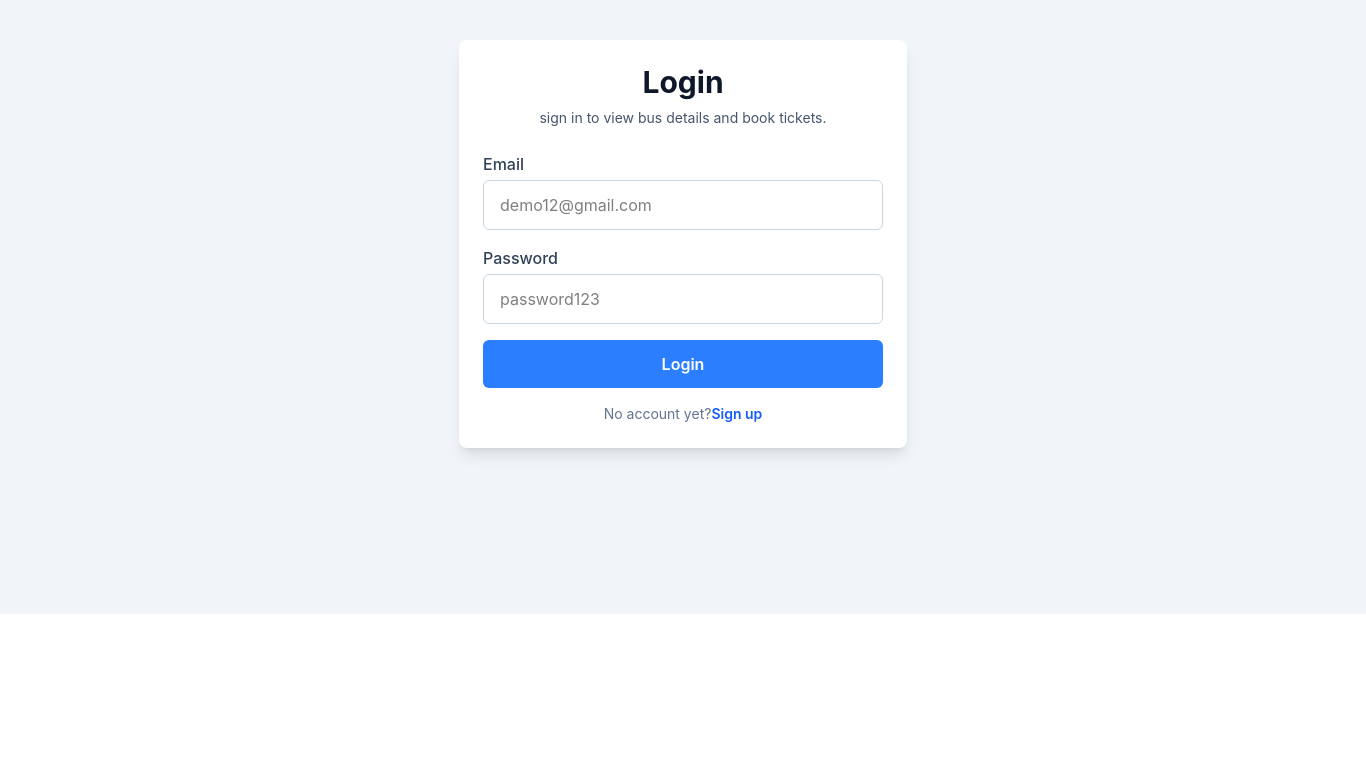
Test case: Login › shows an error for invalid credentials
The image size is (1366, 768).
Type "busTraveladmin@gmail.com" into the field labelled "Email" at (683, 205), box [483, 180, 883, 230]
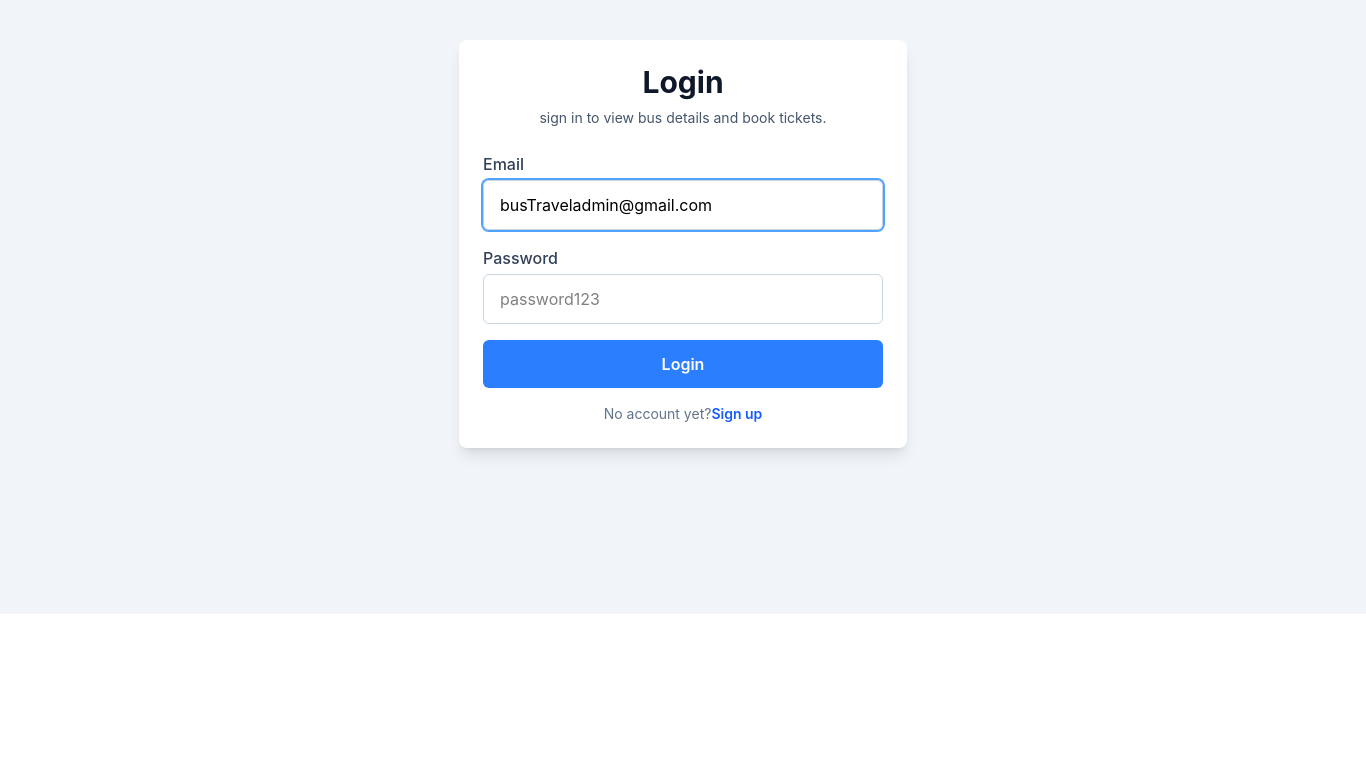
Type "wrong-password" into the password field labelled "Password" at (683, 299), box [483, 274, 883, 324]
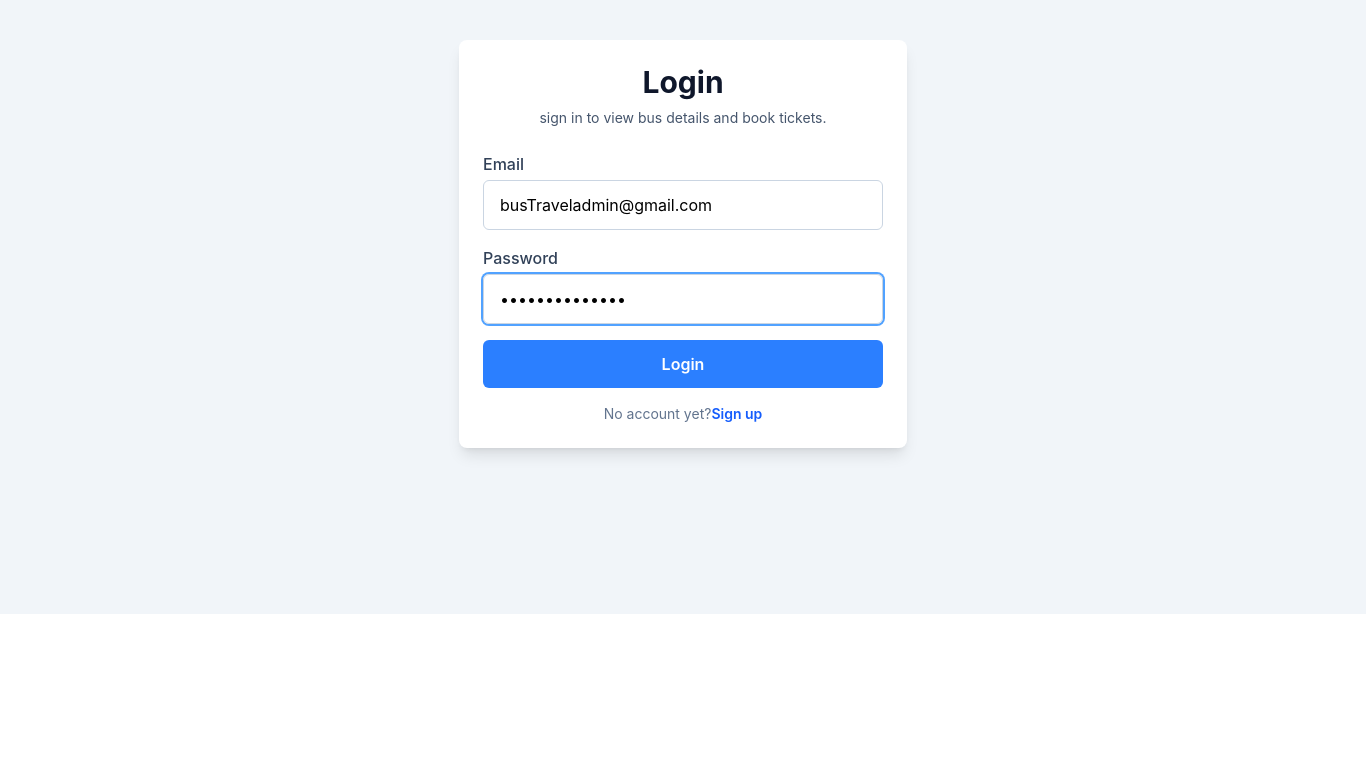
Click the button "Login" at (683, 364), box [483, 340, 883, 388]
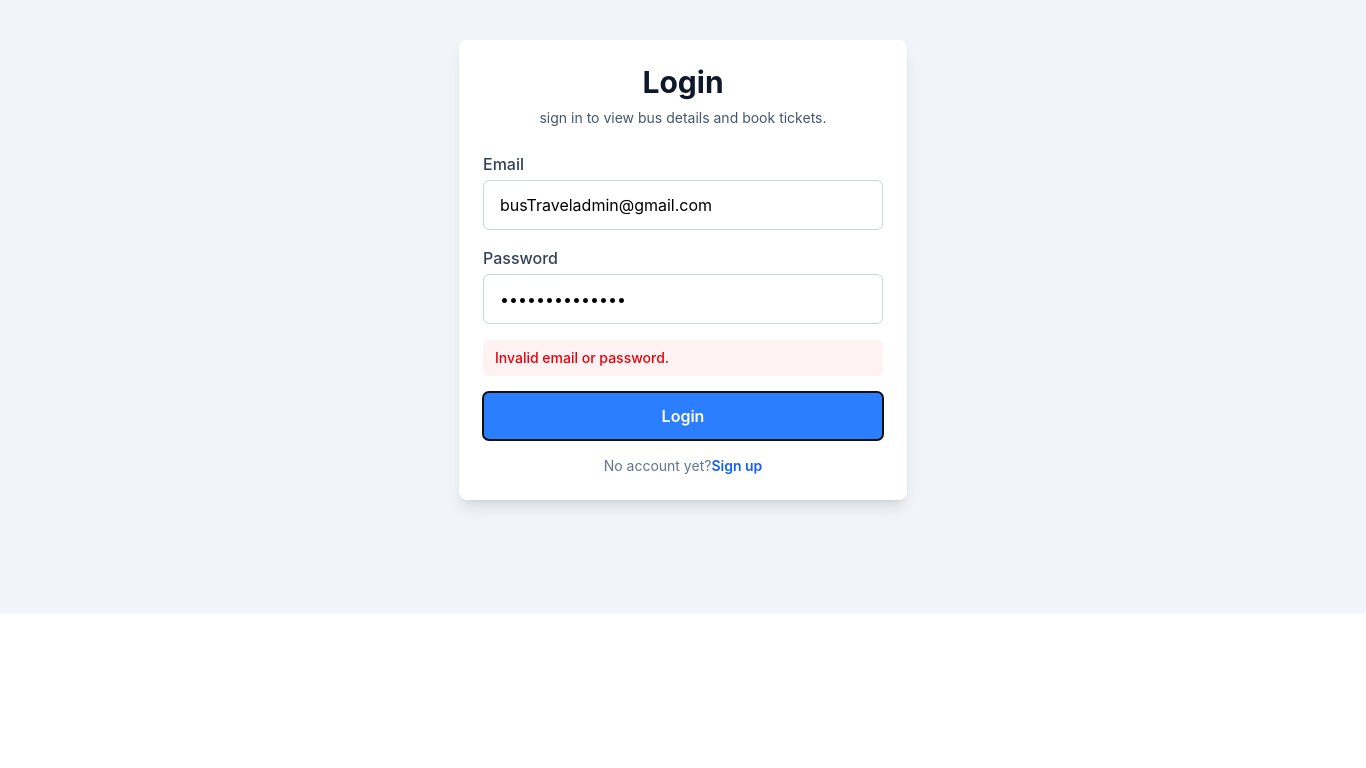
Result: the text "Invalid email or password." is shown at [483, 340, 883, 376]
